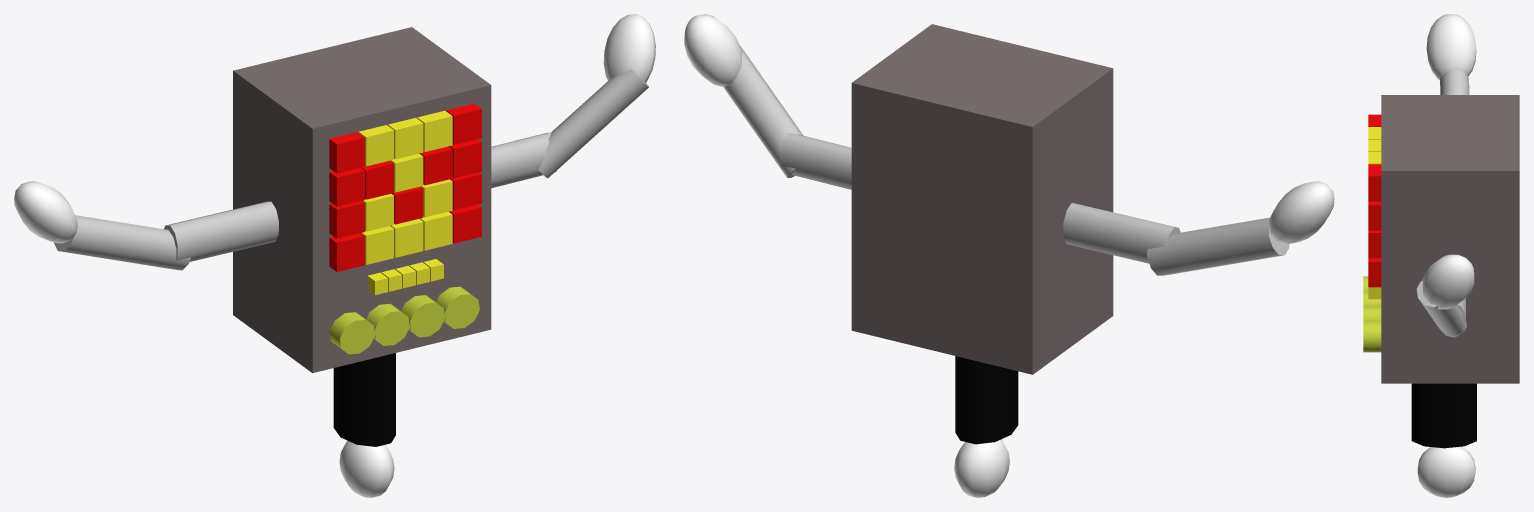
Rendered from meta3.obj.
3 renders of one model, left to right at view 1: azimuth 30°, elevation 25°; view 2: azimuth 150°, elevation 25°; view 3: azimuth 270°, elevation 25°, orthographic. The views are drawn at different scales.
Parts seen in each view (by area): view 1: 037_Box, 007_Cylinder_4_-_baked, 001_Cylinder_7, 002_Cylinder_8, 000_Cylinder_6, 003_Sphere_2, 005_Sphere_1, 006_Sphere, 004_Cylinder_5, 010_Cylinder_1, 008_Cylinder_2, 011_Cylinder (+21 smaller); view 2: 037_Box, 002_Cylinder_8, 007_Cylinder_4_-_baked, 001_Cylinder_7, 000_Cylinder_6, 005_Sphere_1, 003_Sphere_2, 004_Cylinder_5, 006_Sphere; view 3: 037_Box, 007_Cylinder_4_-_baked, 003_Sphere_2, 006_Sphere, 005_Sphere_1, 000_Cylinder_6, 002_Cylinder_8, 009_Cylinder_3, 012_Box_26, 024_Box_11_-_baked, 027_Box_25, 036_Box_20 (+1 smaller).
Part boxes in pixels (x1=…): 037_Box: x1=233, y1=27, x2=491, y2=373; 007_Cylinder_4_-_baked: x1=333, y1=353, x2=395, y2=446; 001_Cylinder_7: x1=164, y1=201, x2=278, y2=261; 002_Cylinder_8: x1=54, y1=215, x2=191, y2=270; 000_Cylinder_6: x1=538, y1=69, x2=648, y2=178; 003_Sphere_2: x1=14, y1=181, x2=77, y2=243; 005_Sphere_1: x1=603, y1=14, x2=655, y2=82; 006_Sphere: x1=339, y1=440, x2=394, y2=497; 004_Cylinder_5: x1=491, y1=132, x2=556, y2=188; 010_Cylinder_1: x1=329, y1=312, x2=374, y2=354; 008_Cylinder_2: x1=401, y1=295, x2=444, y2=337; 011_Cylinder: x1=366, y1=303, x2=409, y2=345; 037_Box: x1=851, y1=24, x2=1113, y2=374; 002_Cylinder_8: x1=1147, y1=217, x2=1289, y2=275; 007_Cylinder_4_-_baked: x1=955, y1=356, x2=1018, y2=444; 001_Cylinder_7: x1=1063, y1=203, x2=1180, y2=263; 000_Cylinder_6: x1=723, y1=46, x2=803, y2=177; 005_Sphere_1: x1=684, y1=14, x2=741, y2=86; 003_Sphere_2: x1=1269, y1=181, x2=1334, y2=244; 004_Cylinder_5: x1=780, y1=133, x2=851, y2=189; 006_Sphere: x1=954, y1=439, x2=1009, y2=497; 037_Box: x1=1381, y1=95, x2=1519, y2=383; 007_Cylinder_4_-_baked: x1=1411, y1=383, x2=1476, y2=448; 003_Sphere_2: x1=1426, y1=14, x2=1476, y2=80; 006_Sphere: x1=1417, y1=446, x2=1475, y2=497; 005_Sphere_1: x1=1422, y1=254, x2=1474, y2=309; 000_Cylinder_6: x1=1416, y1=280, x2=1466, y2=337; 002_Cylinder_8: x1=1440, y1=69, x2=1469, y2=94; 009_Cylinder_3: x1=1363, y1=320, x2=1381, y2=352; 012_Box_26: x1=1368, y1=164, x2=1381, y2=201; 024_Box_11_-_baked: x1=1368, y1=201, x2=1381, y2=230; 027_Box_25: x1=1368, y1=258, x2=1381, y2=287; 036_Box_20: x1=1368, y1=230, x2=1381, y2=258.
Bounding box in the file's own units: 74.69 × 46.88 × 18.3.
